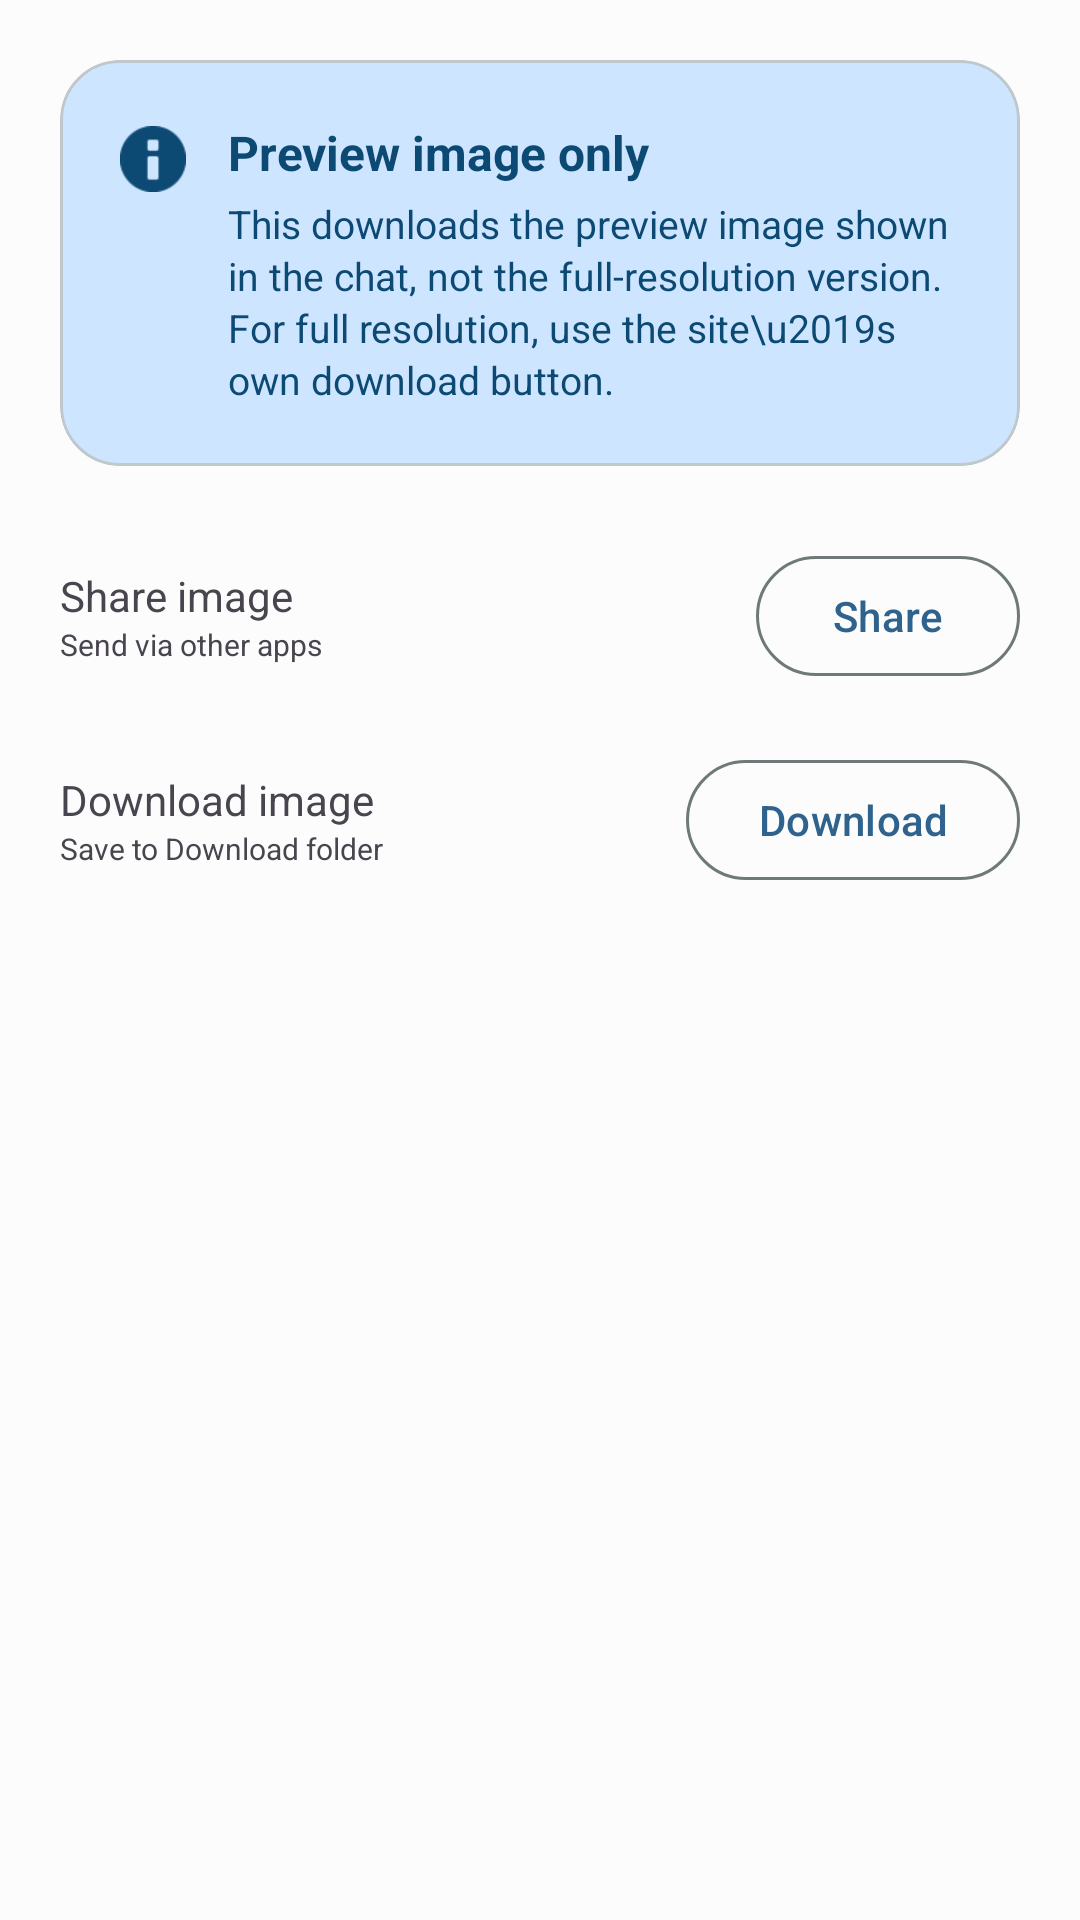

Screen size 1080 x 1920. Icon name, then its box in pixels as (x1, y1, x2, y2):
info: (120, 126, 186, 192)
